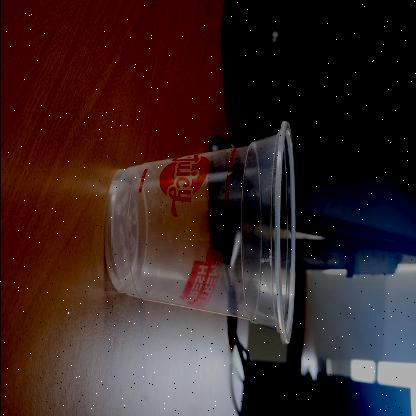Others: (102, 119, 296, 347)
